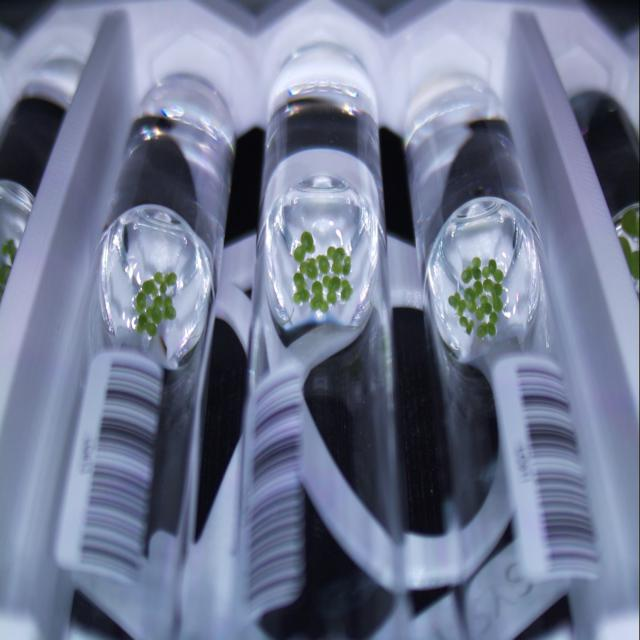Lemna-Gibba: (476, 300, 498, 339), (292, 232, 315, 264), (328, 247, 351, 275), (310, 280, 329, 312), (292, 272, 310, 304), (464, 280, 482, 312), (461, 257, 482, 284), (322, 275, 341, 304), (145, 295, 162, 324), (481, 259, 504, 280), (136, 314, 158, 335), (475, 295, 492, 320), (449, 292, 466, 316), (300, 259, 319, 280), (141, 280, 158, 299), (482, 279, 502, 295), (164, 295, 176, 320), (459, 315, 474, 334), (316, 255, 330, 274), (135, 290, 146, 314), (490, 294, 504, 312), (341, 279, 352, 300), (164, 272, 178, 287), (154, 272, 164, 285), (160, 282, 168, 293)
